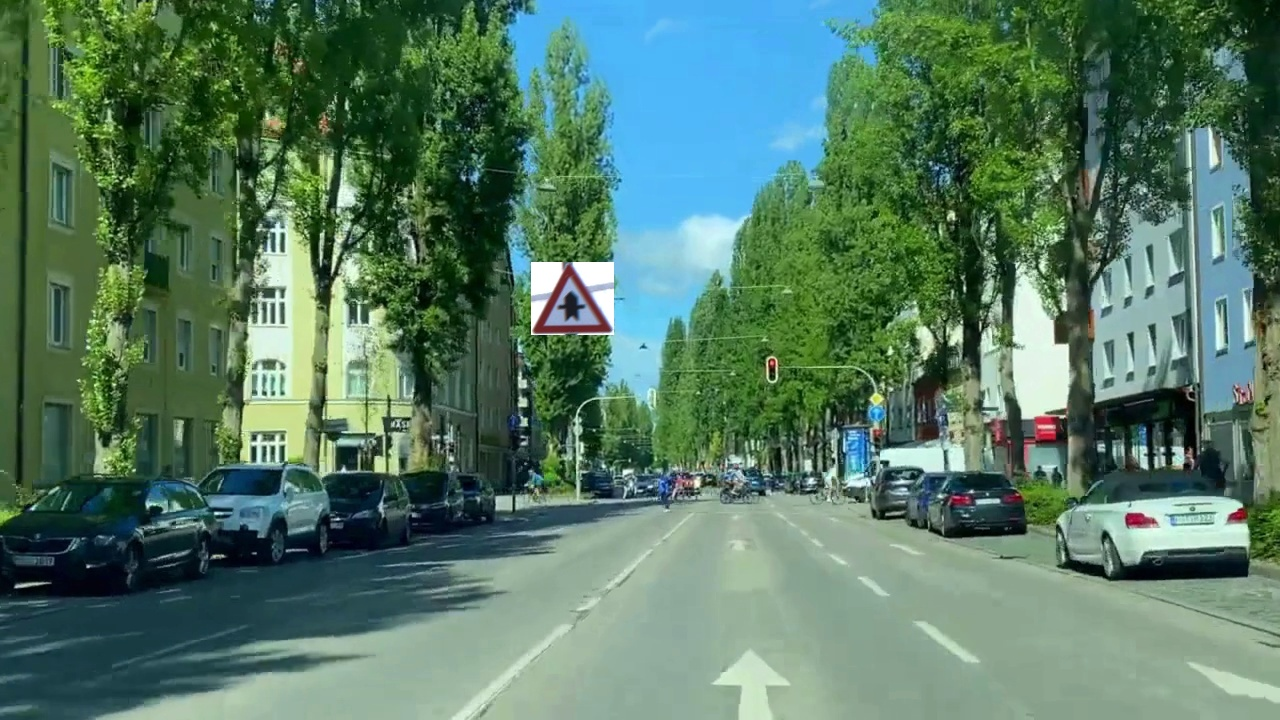Right-of-way: (531, 262, 614, 335)
